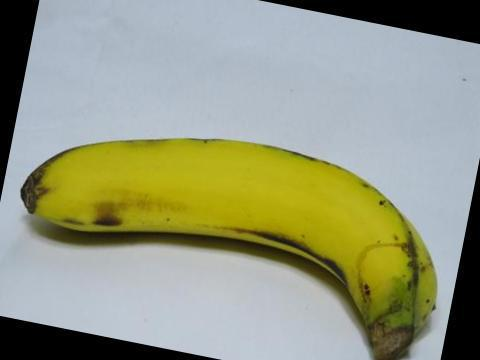freshripe: (14, 129, 441, 346)
